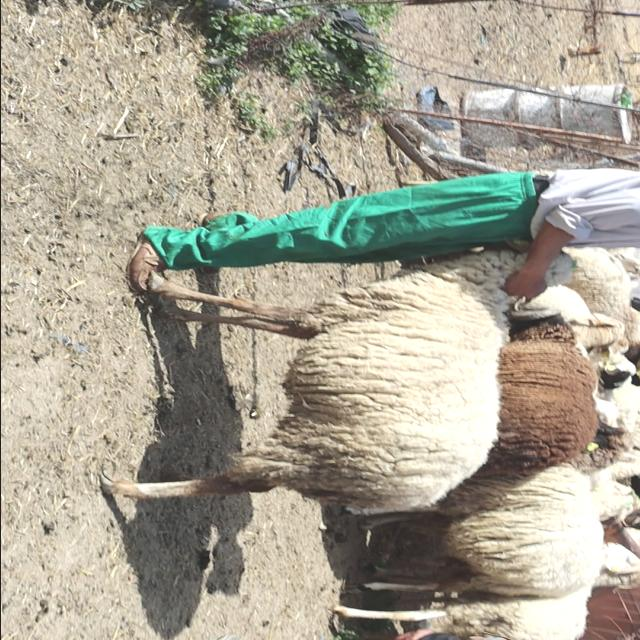Score_5: (101, 250, 520, 510)
